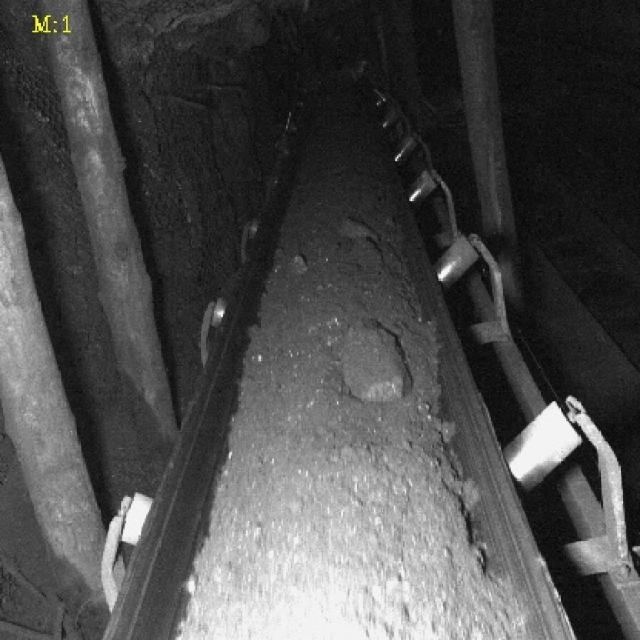large_sized_coal: (342, 320, 411, 400), (338, 217, 380, 266)
